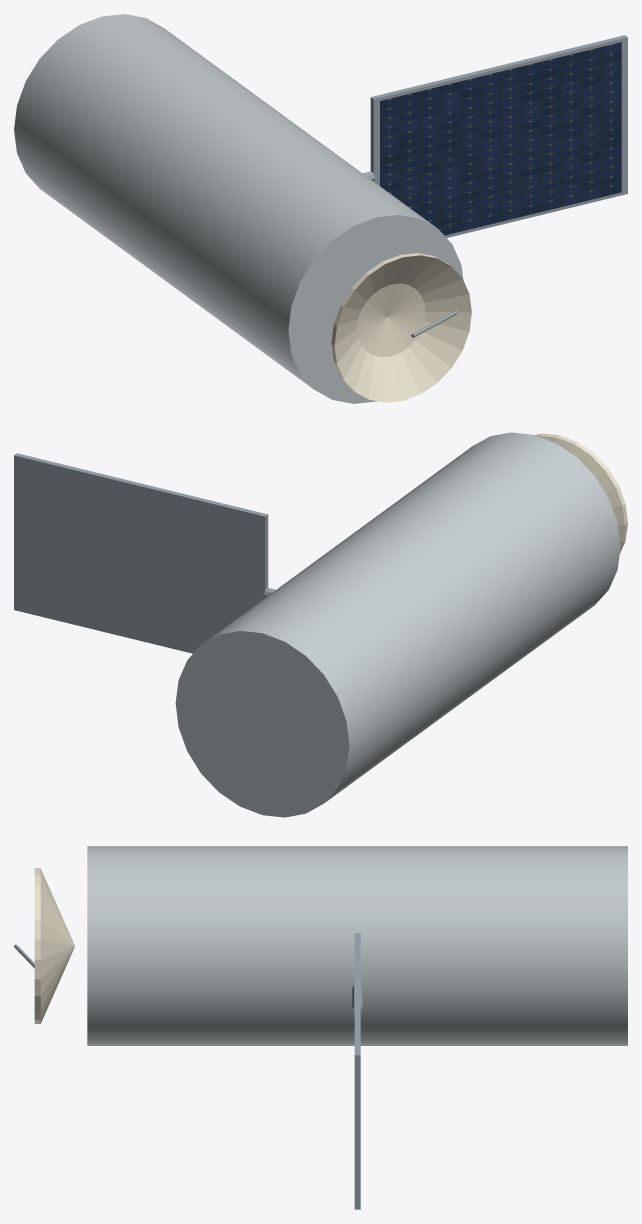
Rendered from ref-bcp-2000-tchstar-25157.glb.
3 renders of one model, top to bottom at view 1: azimuth 30°, elevation 25°; view 2: azimuth 150°, elevation 25°; view 3: azimuth 270°, elevation 25°, orthographic.
Visible parts, largest first — view 1: Spacecraft body, Photovoltaic laminates, Reflector dish, Array frame; view 2: Spacecraft body, Array frame, Reflector dish; view 3: Spacecraft body, Reflector dish, Array frame.
Boxes of the visible parts, x1,y1,x2,y2 form: Spacecraft body: (14, 14, 463, 403); Photovoltaic laminates: (380, 42, 621, 235); Reflector dish: (331, 253, 471, 402); Array frame: (370, 35, 627, 237); Spacecraft body: (175, 432, 620, 817); Array frame: (14, 453, 268, 653); Reflector dish: (535, 433, 627, 553); Spacecraft body: (87, 846, 627, 1045); Reflector dish: (34, 868, 74, 1023); Array frame: (354, 933, 360, 1209).
Bounding box in the file's own units: 2.7 × 1 × 3.07.
4 materials, 1 textured.
